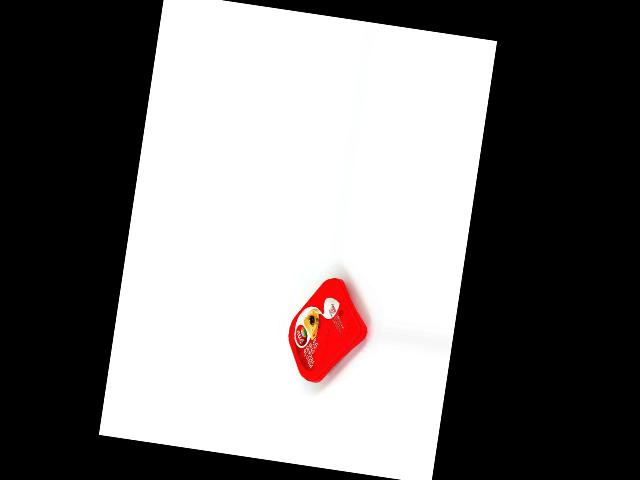cheese: (281, 271, 374, 389)
